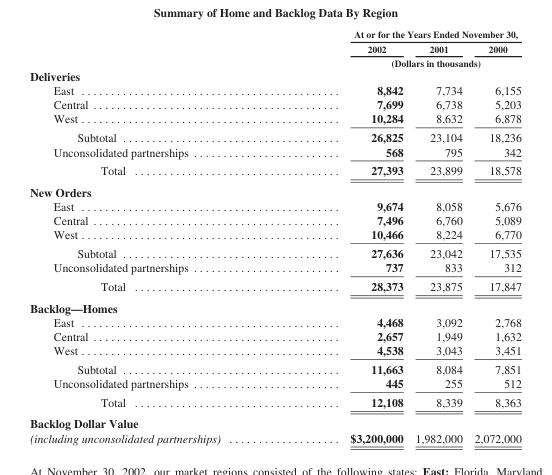table: (29, 28, 520, 444)
table column: (29, 28, 284, 444), (284, 28, 408, 444), (408, 28, 467, 444), (467, 28, 520, 444)
table column header: (29, 28, 520, 68)
table projected row header: (29, 180, 520, 198), (29, 296, 520, 314), (29, 412, 520, 430), (29, 68, 520, 82)
table row: (29, 160, 520, 180), (29, 276, 520, 296), (29, 392, 520, 412), (29, 180, 520, 198), (29, 296, 520, 314), (29, 412, 520, 430), (29, 127, 520, 144), (29, 226, 520, 243), (29, 243, 520, 260), (29, 342, 520, 359), (29, 375, 520, 392), (29, 111, 520, 127), (29, 144, 520, 160), (29, 260, 520, 276), (29, 359, 520, 375), (29, 96, 520, 111), (29, 41, 520, 55), (29, 68, 520, 82), (29, 82, 520, 96), (29, 198, 520, 212), (29, 212, 520, 226), (29, 314, 520, 328), (29, 328, 520, 342), (29, 430, 520, 444), (29, 28, 520, 41), (29, 55, 520, 68)
table spanning cell: (284, 28, 520, 41), (284, 55, 520, 68)
